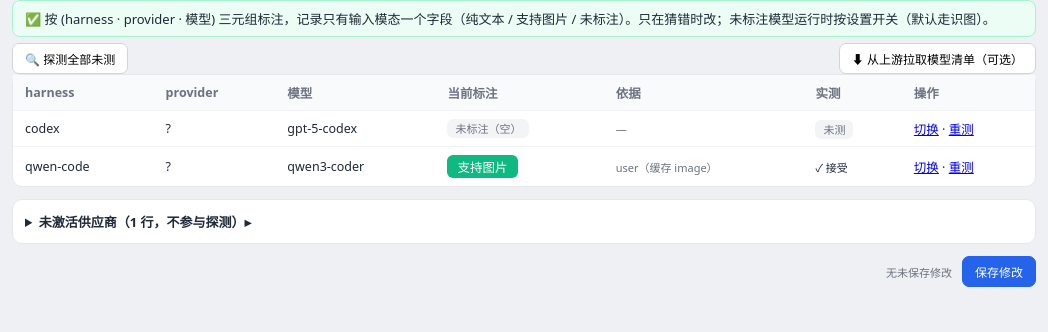
Test case: ModelsPage 探测反馈 › 重测:有结论走状态行轻提示，不弹窗
The width and height of the screenshot is (1048, 332).
Expected: the text "gpt-5-codex" is shown, [275,110,435,146]
Click the link "重测" in the row of "gpt-5-codex" at coordinates (961, 130), box [949,121,974,138]
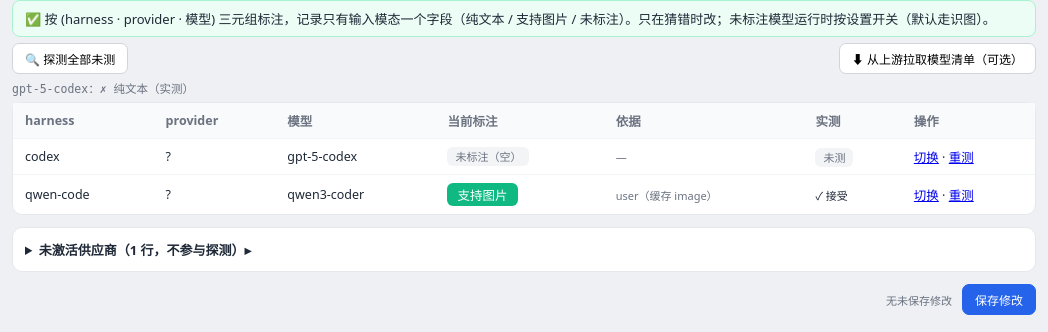
Now the text "gpt-5-codex：✗ 纯文本（实测）" is shown, box [12,82,194,96]
